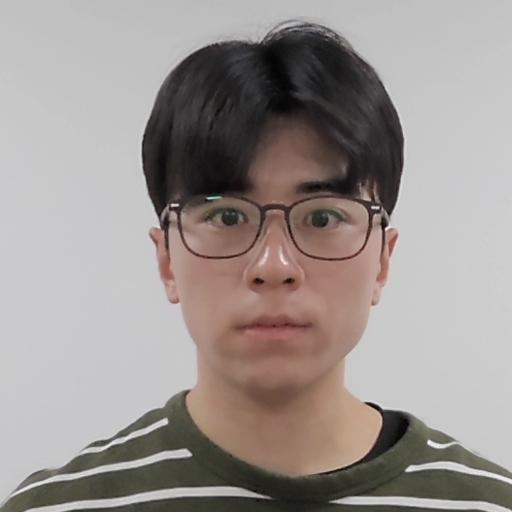no_glasses: (138, 26, 414, 396)
